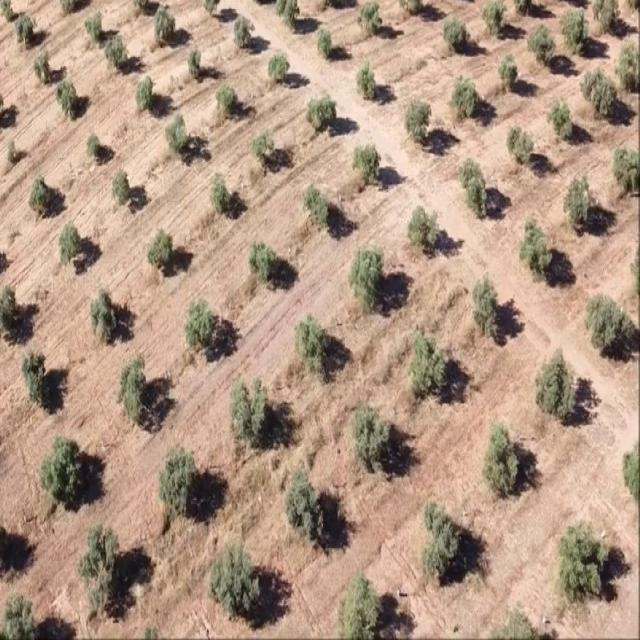trees: (408, 487, 469, 595), (475, 414, 537, 518), (72, 508, 130, 616), (543, 516, 607, 610), (224, 364, 280, 466), (37, 413, 89, 521), (275, 458, 327, 560), (202, 521, 258, 615), (157, 432, 207, 534), (343, 392, 397, 486), (532, 344, 590, 426), (582, 270, 630, 358), (179, 282, 228, 363), (344, 240, 391, 323), (330, 572, 390, 637), (402, 327, 450, 408), (461, 263, 504, 347), (552, 170, 600, 245), (48, 207, 96, 280), (454, 149, 498, 227), (113, 351, 154, 429), (292, 304, 338, 373), (404, 196, 448, 263), (19, 336, 58, 406), (82, 276, 118, 344), (576, 63, 616, 124), (517, 212, 553, 279), (401, 85, 436, 153), (502, 115, 538, 177), (25, 165, 61, 225), (247, 122, 287, 175), (607, 138, 639, 204), (206, 164, 239, 226), (244, 230, 281, 284), (448, 72, 483, 125), (144, 219, 174, 279), (98, 29, 130, 84), (613, 28, 639, 93), (304, 90, 344, 132), (301, 177, 331, 233), (160, 104, 193, 153), (54, 66, 85, 118), (558, 7, 592, 54), (347, 137, 384, 180), (526, 17, 556, 66), (29, 43, 64, 85), (547, 91, 575, 143), (440, 14, 474, 56), (109, 165, 136, 217), (148, 0, 176, 49), (133, 63, 159, 113), (353, 0, 383, 42), (180, 40, 208, 84), (480, 0, 510, 41), (353, 54, 377, 105), (209, 78, 238, 120), (14, 4, 39, 52), (76, 6, 106, 45), (590, 0, 620, 36), (265, 46, 294, 83), (229, 12, 258, 48), (495, 51, 519, 93), (83, 123, 106, 164), (314, 24, 334, 62), (277, 0, 303, 28)
